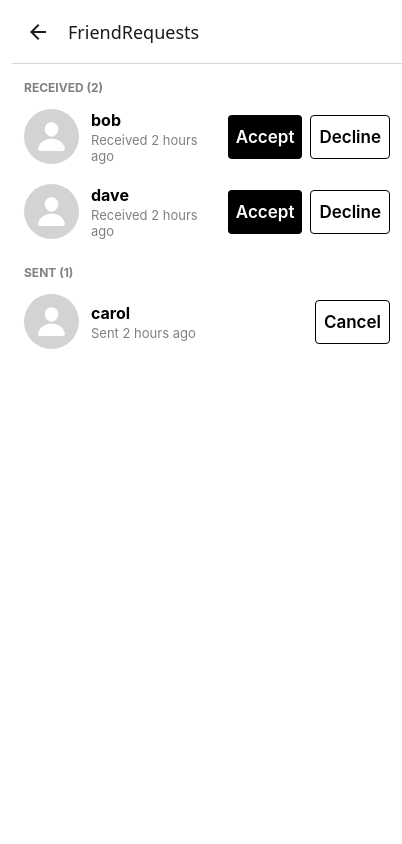
Friend requests (§14) › accepts or declines incoming requests and cancels outgoing ones
Later steps or results of the test are not shown.
Expected: the element with test id "friend-requests-list" is shown, [12,64,401,359]
Expected: the heading "Received (2)" is shown, [12,64,401,99]
Click the button with test id "request-accept-in-bob" at (265, 136), box [228,114,302,158]
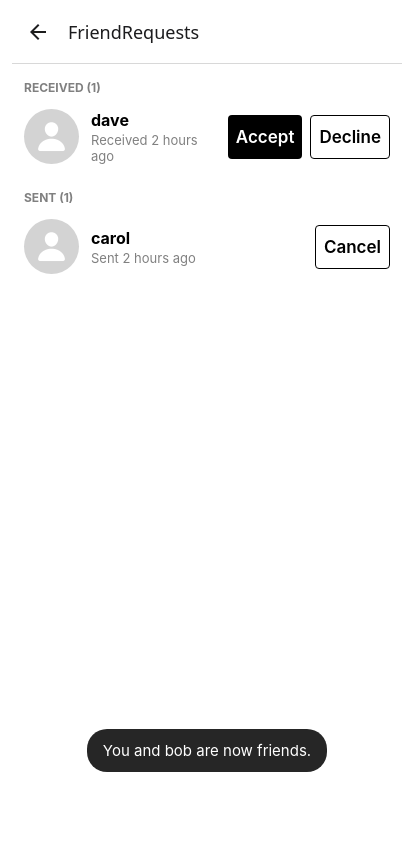
Expected: the element with test id "toast" reads "You and bob are now friends.", [103,741,311,760]
Expected: the heading "Received (1)" is shown, [12,64,401,99]
Click the button with test id "request-decline-in-dave" at (350, 136), box [310,114,390,158]
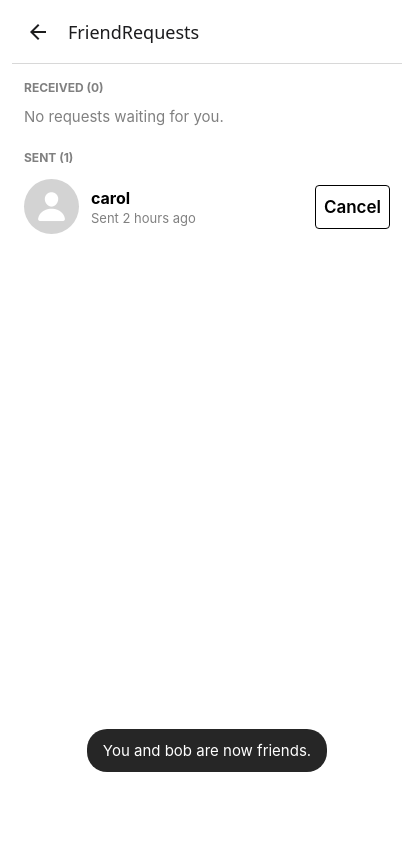
Expected: the text "No requests waiting for you." is shown, [24,107,224,126]
Click the button with test id "request-cancel-out-carol" at (352, 206), box [315,184,390,228]
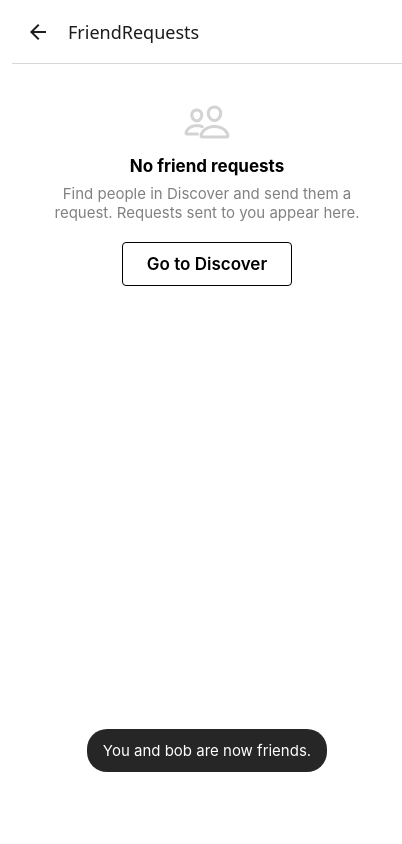
Expected: the element with test id "friend-requests-empty" is shown, [54,98,360,286]
